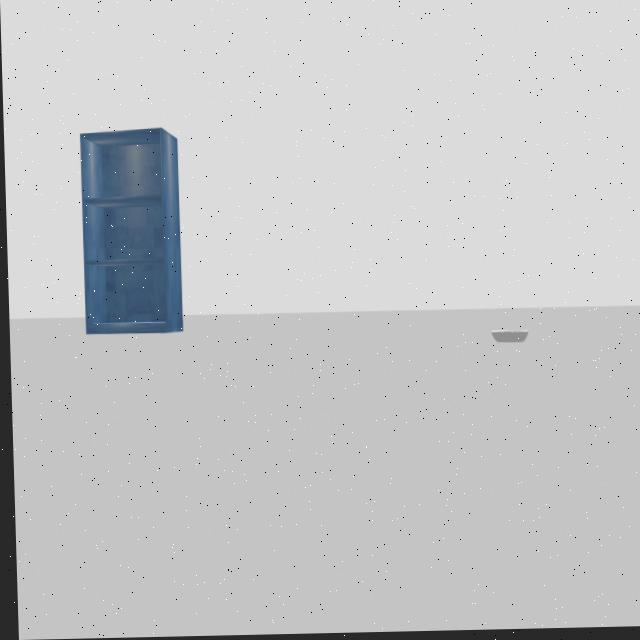bowl: (483, 318, 535, 358)
shelf: (72, 116, 189, 357)
